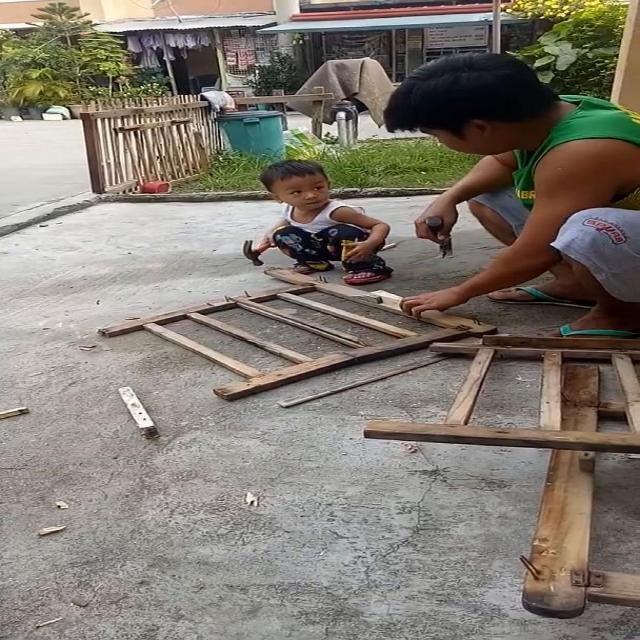hammer: (424, 214, 455, 259), (242, 239, 276, 266)
